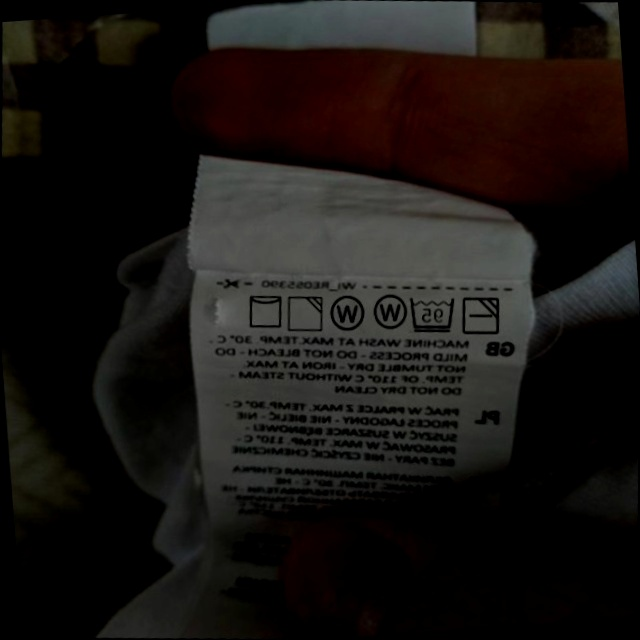95C: (405, 291, 459, 336)
dry_flat_in_shade: (459, 291, 504, 339)
line_dry: (242, 289, 287, 333)
shade_dry: (283, 291, 327, 336)
wet_clean: (326, 292, 368, 336), (368, 288, 409, 333)
